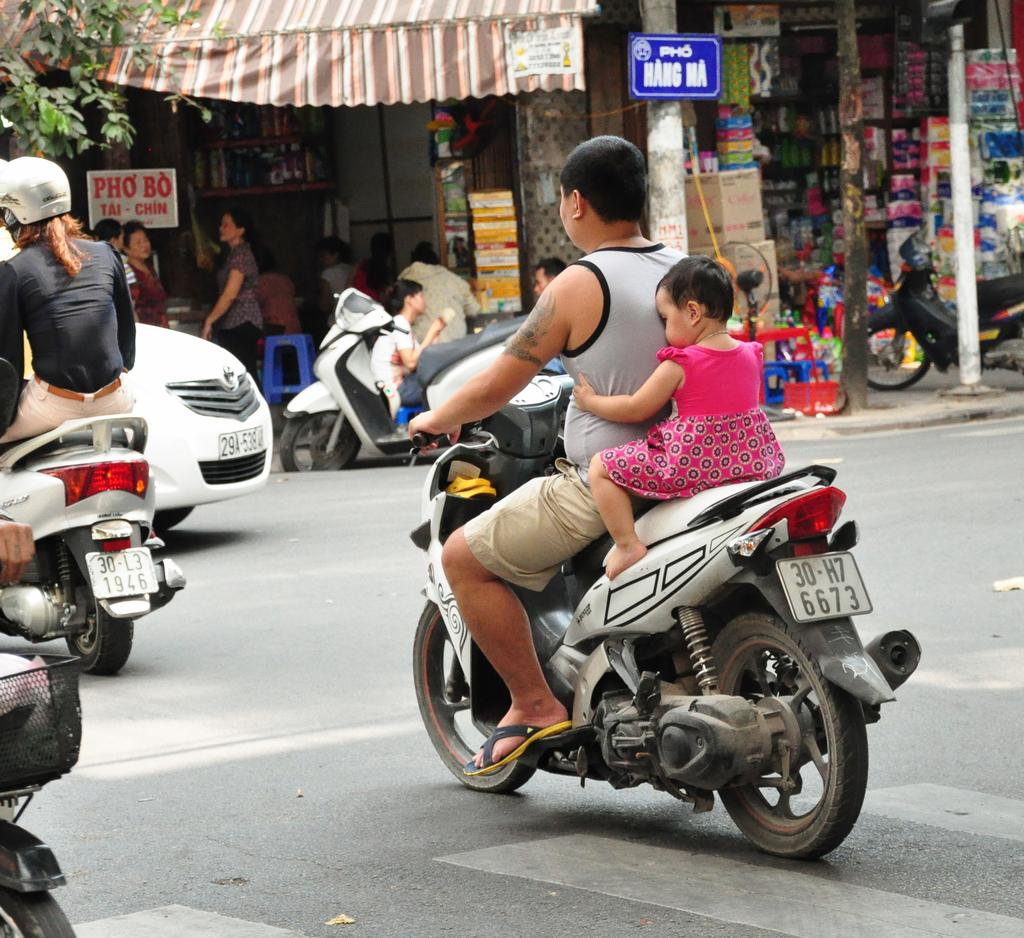helmet: (0, 155, 72, 238)
nohelmet: (556, 133, 650, 258), (652, 253, 737, 353), (117, 219, 153, 262), (390, 278, 428, 318), (217, 208, 255, 246), (92, 217, 125, 255), (318, 235, 350, 271), (409, 240, 440, 272), (369, 231, 394, 264)
